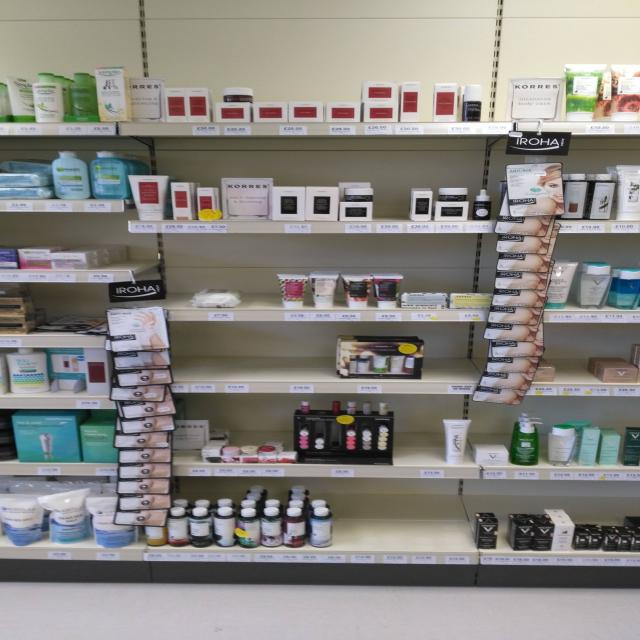void: (419, 477, 473, 565), (272, 320, 324, 392), (374, 478, 415, 565), (334, 478, 374, 567), (220, 321, 268, 392), (433, 326, 482, 394), (553, 324, 597, 398), (174, 323, 221, 392), (398, 398, 439, 474)
